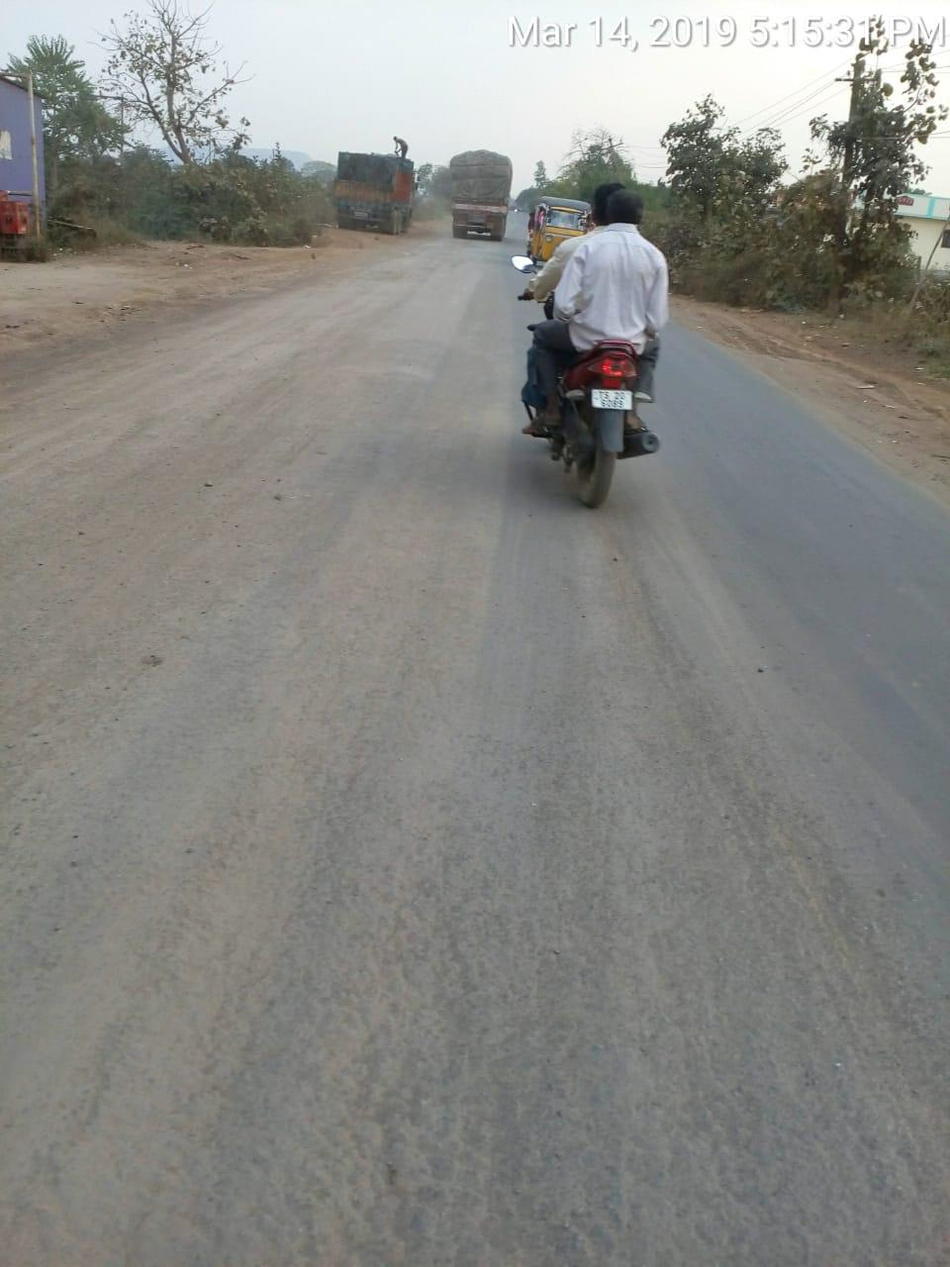plate: (587, 386, 636, 414)
